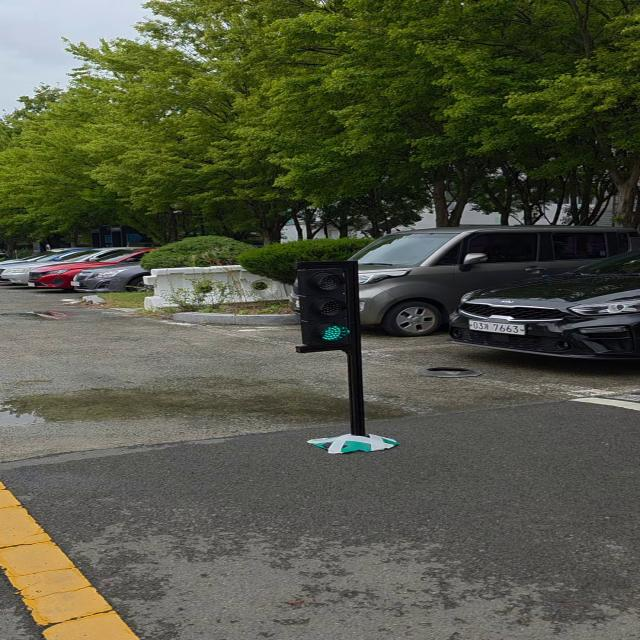green: (295, 258, 363, 355)
